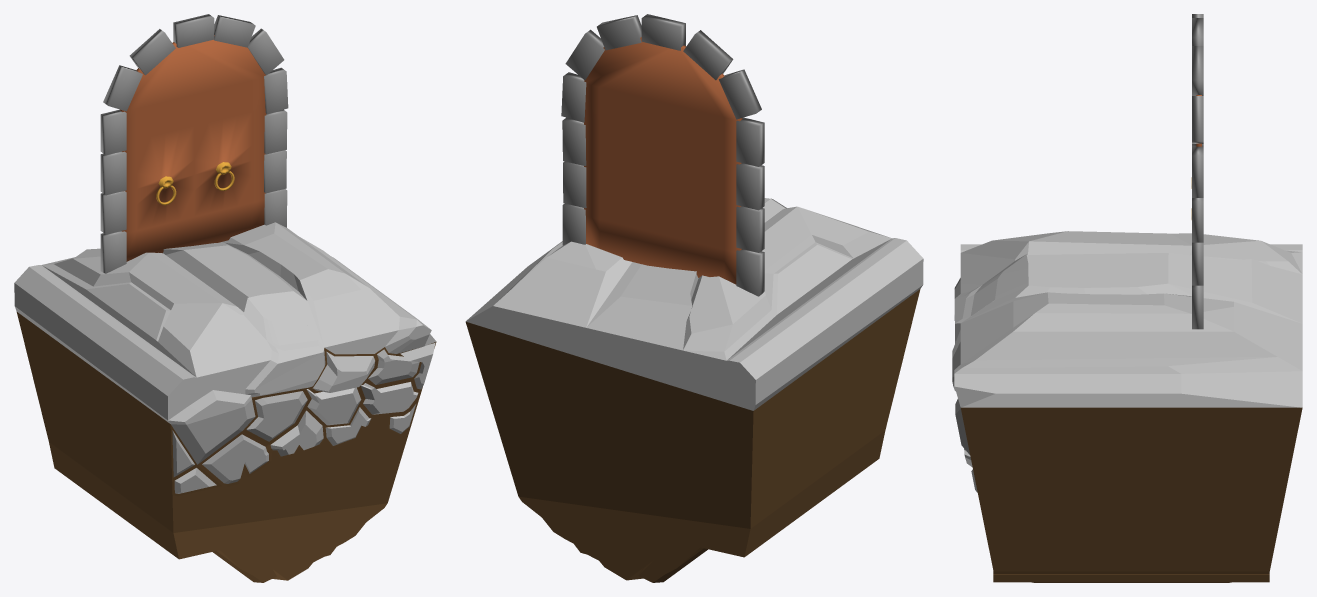
The model's file is Exit_Door.fbx.
3 views of the same model, side by side, from view 1: azimuth 30°, elevation 25°; view 2: azimuth 150°, elevation 25°; view 3: azimuth 270°, elevation 25° (orthographic). The views are drawn at different scales.
Visible parts, largest first — view 1: GoalPost, EndGoal, Bricks; view 2: GoalPost, EndGoal, Bricks; view 3: GoalPost, Bricks.
Part boxes in pixels (left/top/right/bottom): GoalPost: left=14, top=222, right=436, bottom=582; EndGoal: left=120, top=35, right=266, bottom=261; Bricks: left=100, top=14, right=288, bottom=273; GoalPost: left=465, top=198, right=923, bottom=582; EndGoal: left=584, top=37, right=742, bottom=284; Bricks: left=561, top=14, right=764, bottom=296; GoalPost: left=952, top=231, right=1302, bottom=582; Bricks: left=1192, top=14, right=1203, bottom=329.
Size of the model in its own units: 492 by 883 by 501.
